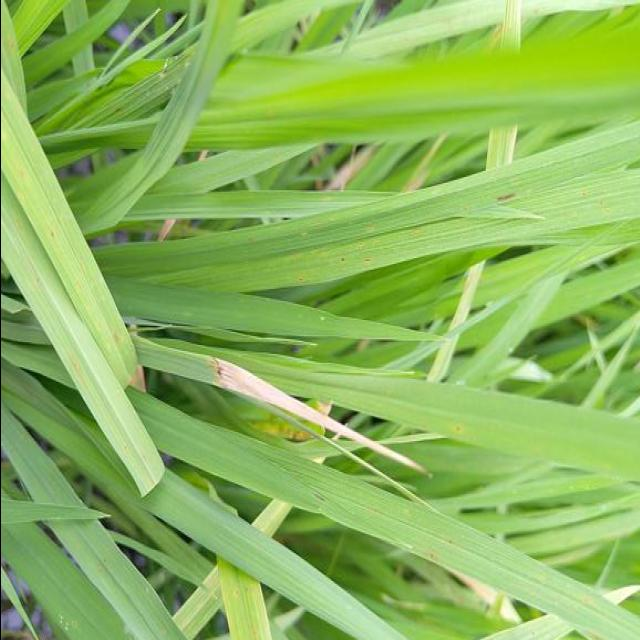Leaf Blight: (130, 333, 421, 473)
